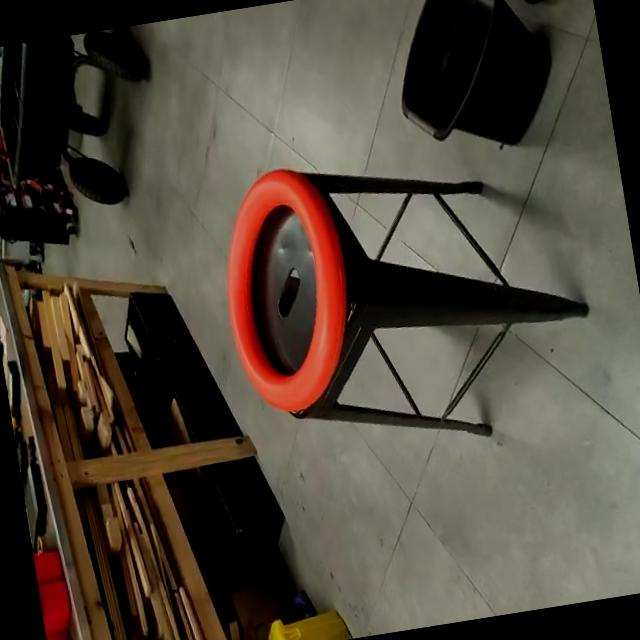note: (204, 156, 368, 425)
